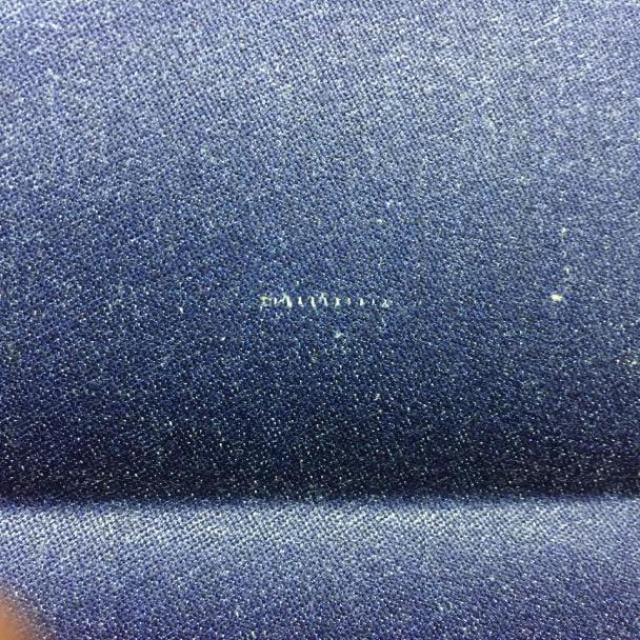Knot: (259, 292, 394, 311)
